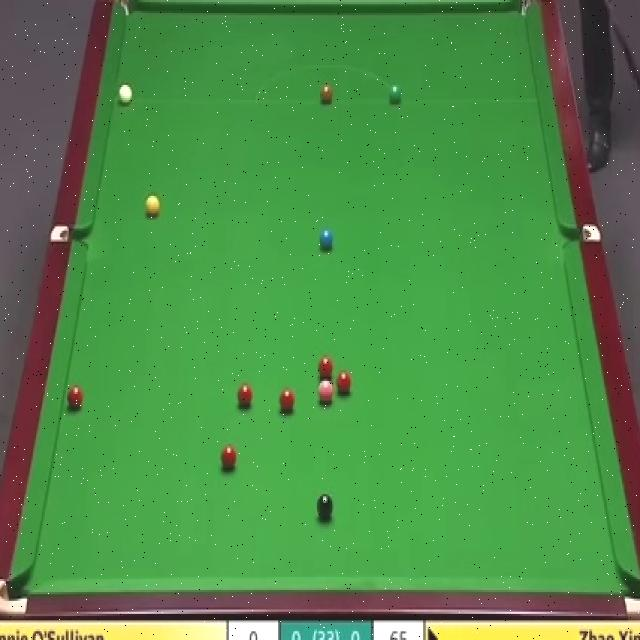black-ball: (317, 491, 334, 520)
blue-ball: (316, 228, 334, 251)
brown-ball: (320, 80, 332, 102)
green-ball: (389, 83, 401, 101)
pink-ball: (316, 378, 334, 405)
red-ball: (236, 382, 255, 409), (278, 386, 296, 414), (220, 444, 237, 471), (66, 386, 84, 411), (334, 372, 352, 397), (318, 354, 334, 380)
white-ball: (119, 84, 134, 106)
yellow-ball: (143, 194, 160, 218)
